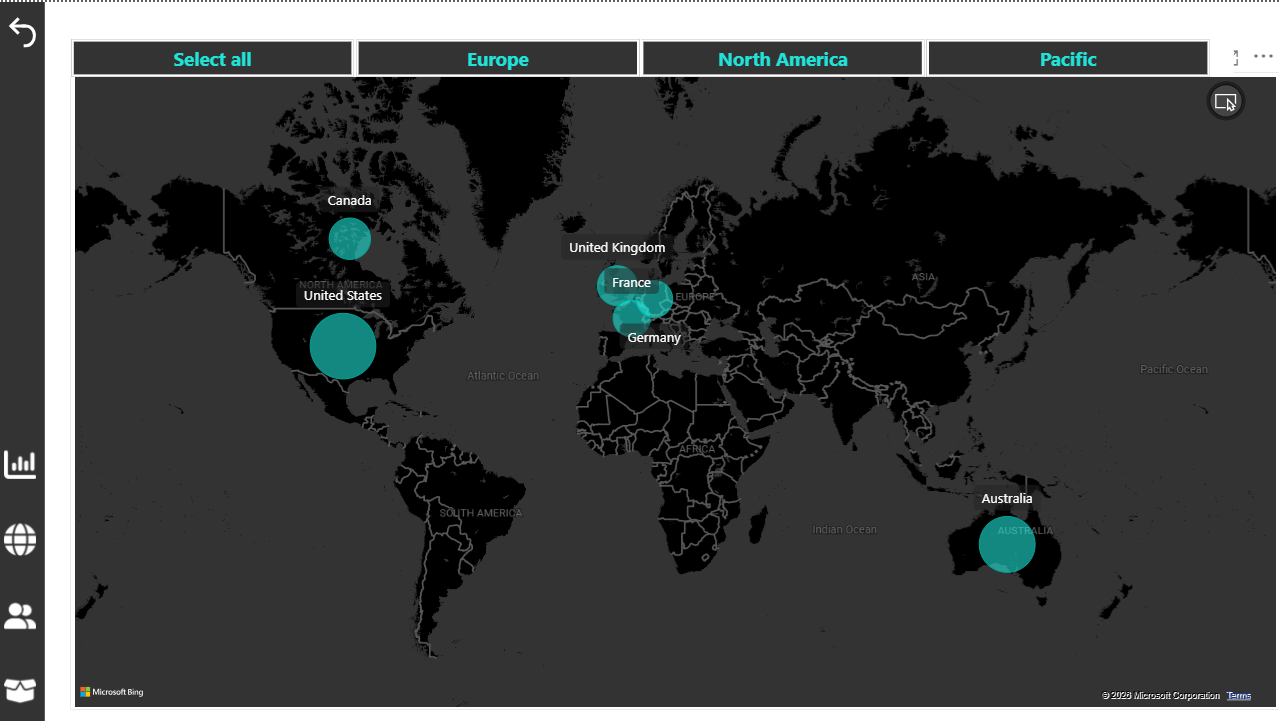

Layout of this report page (visuals, bound fields, positions):
{"tool":"powerbi","page":{"name":"Map","canvas":[1280,720],"ordinal":1},"visuals":[{"type":"shape","box":[0,0,45,720],"z":0},{"type":"map","fields":{"Category":["Territory Lookup.Country"],"Size":["Measure Table (2).Total orders"]},"box":[69.7,69.7,1210.6,639.5],"z":1000},{"type":"actionButton","box":[0,442.7,45.2,40.4],"z":1000,"group":"g1"},{"type":"slicer","fields":{"Values":["Territory Lookup.Continent"]},"box":[45,30,1188.8,45],"z":2000},{"type":"actionButton","box":[0,518.1,45.2,40.4],"z":2000,"group":"g1"},{"type":"group","id":"g1","title":"Navigation buttons","box":[0,442.7,44,266.6],"z":3000},{"type":"actionButton","box":[0,593.5,45.2,40.4],"z":3000,"group":"g1"},{"type":"actionButton","box":[2.1,9.8,53.8,40.4],"z":4000},{"type":"actionButton","box":[0,668.7,45.2,40.4],"z":4000,"group":"g1"}]}

Visuals, with their boxes on the page's 1280x720 design canvas (x1, y1, x2, y2). These are canvas units, not pixel positions in the 1279x721 screenshot, which may show the page scaled, cropped or inside an application window:
shape: bbox=[0, 0, 45, 720]
map - Territory Lookup.Country x Measure Table (2).Total orders: bbox=[70, 70, 1280, 709]
actionButton: bbox=[0, 443, 45, 483]
slicer - Territory Lookup.Continent: bbox=[45, 30, 1234, 75]
actionButton: bbox=[0, 518, 45, 558]
"Navigation buttons" group: bbox=[0, 443, 44, 709]
actionButton: bbox=[0, 594, 45, 634]
actionButton: bbox=[2, 10, 56, 50]
actionButton: bbox=[0, 669, 45, 709]
